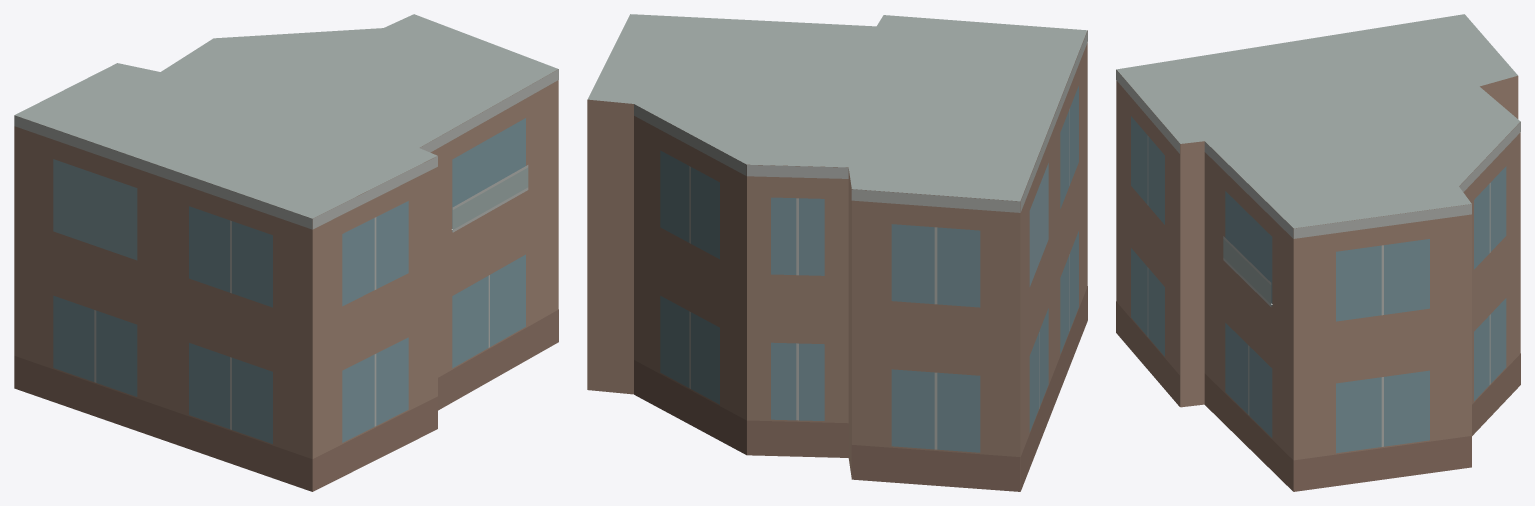
File: survey-upis-32505805.glb
3 views of the same model, side by side, from view 1: azimuth 30°, elevation 25°; view 2: azimuth 150°, elevation 25°; view 3: azimuth 270°, elevation 25° (orthographic). The views are drawn at different scales.
Parts seen in each view (by area): view 1: survey-upis-32505805.tmp; view 2: survey-upis-32505805.tmp; view 3: survey-upis-32505805.tmp.
Part boxes in pixels (left/top/right/bottom): survey-upis-32505805.tmp: left=14, top=14, right=558, bottom=491; survey-upis-32505805.tmp: left=587, top=14, right=1087, bottom=491; survey-upis-32505805.tmp: left=1116, top=14, right=1520, bottom=491.
Size of the model in its own units: 10.66 by 6.1 by 8.5.
